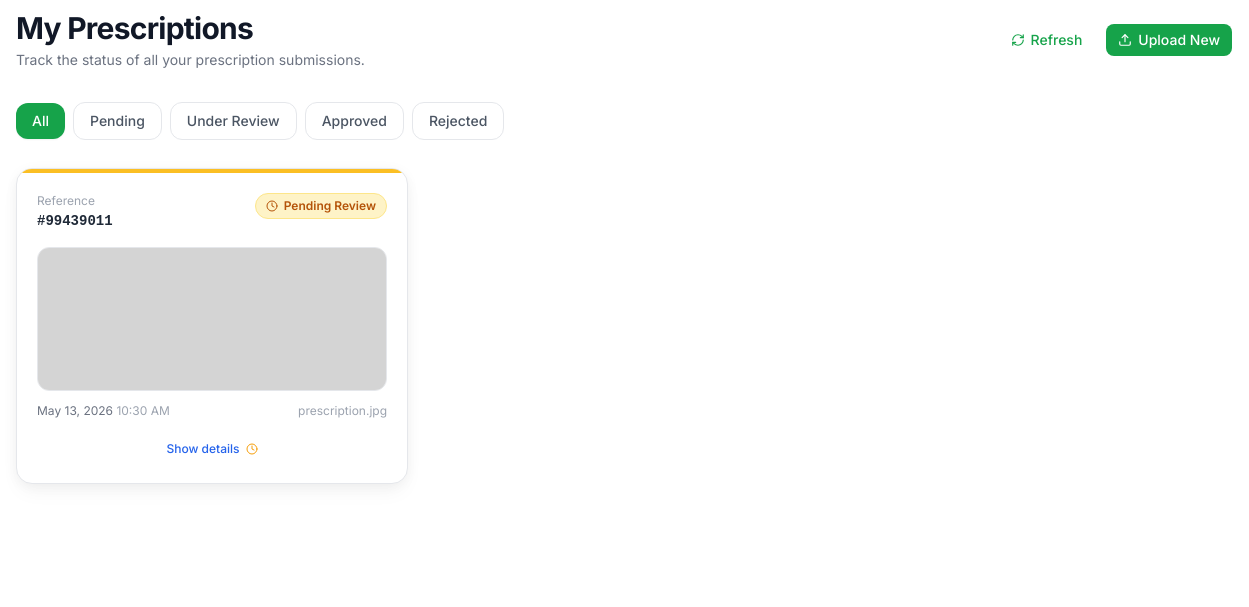
Test: Expand / collapse details › shows details after clicking "Show details"
Click the button with test id "expand-button" at (212, 449), box [37,435,387,463]
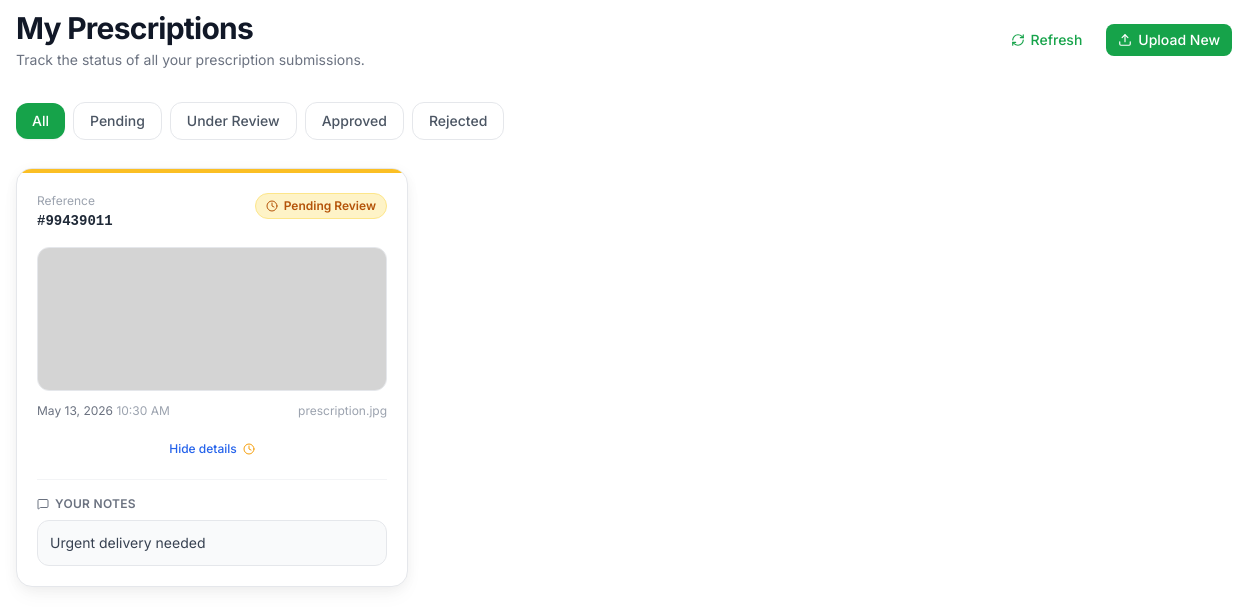
Now the element with test id "pharmacist-notes" is shown, box [37,479,387,566]
Now the text "Urgent delivery needed" is shown, box [37,520,387,566]
